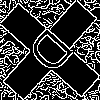D: (25, 25, 83, 83)
